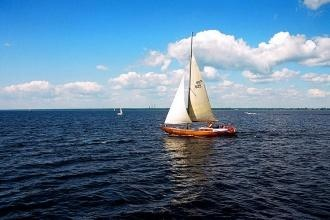fanchuan: (157, 36, 251, 141)
